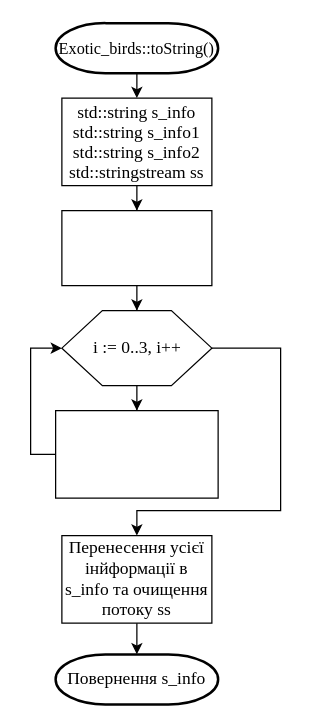
This 313x726 diagram has some shape labels left out. Each missing label, with the centre of its shape:
"Занесення усіх даних про об'єкт в ss" goes at pixel 136 247.
"Розподілення інформації між s_info1, s_info2 та розділ інформації пробілом" goes at pixel 136 453.
